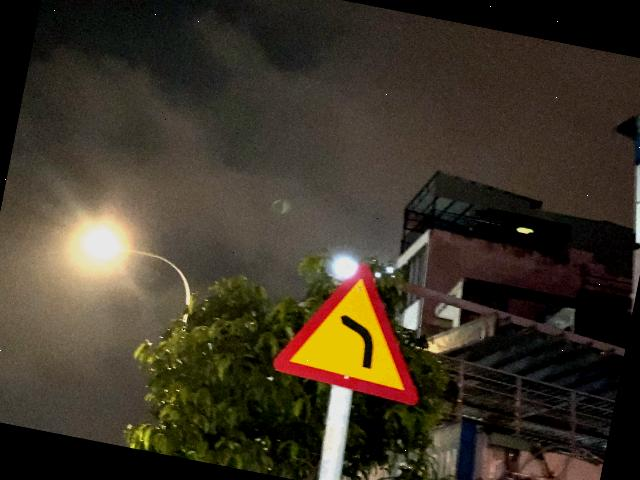cho-ngoat-nguy-hiem-ben-trai: (268, 244, 444, 408)
